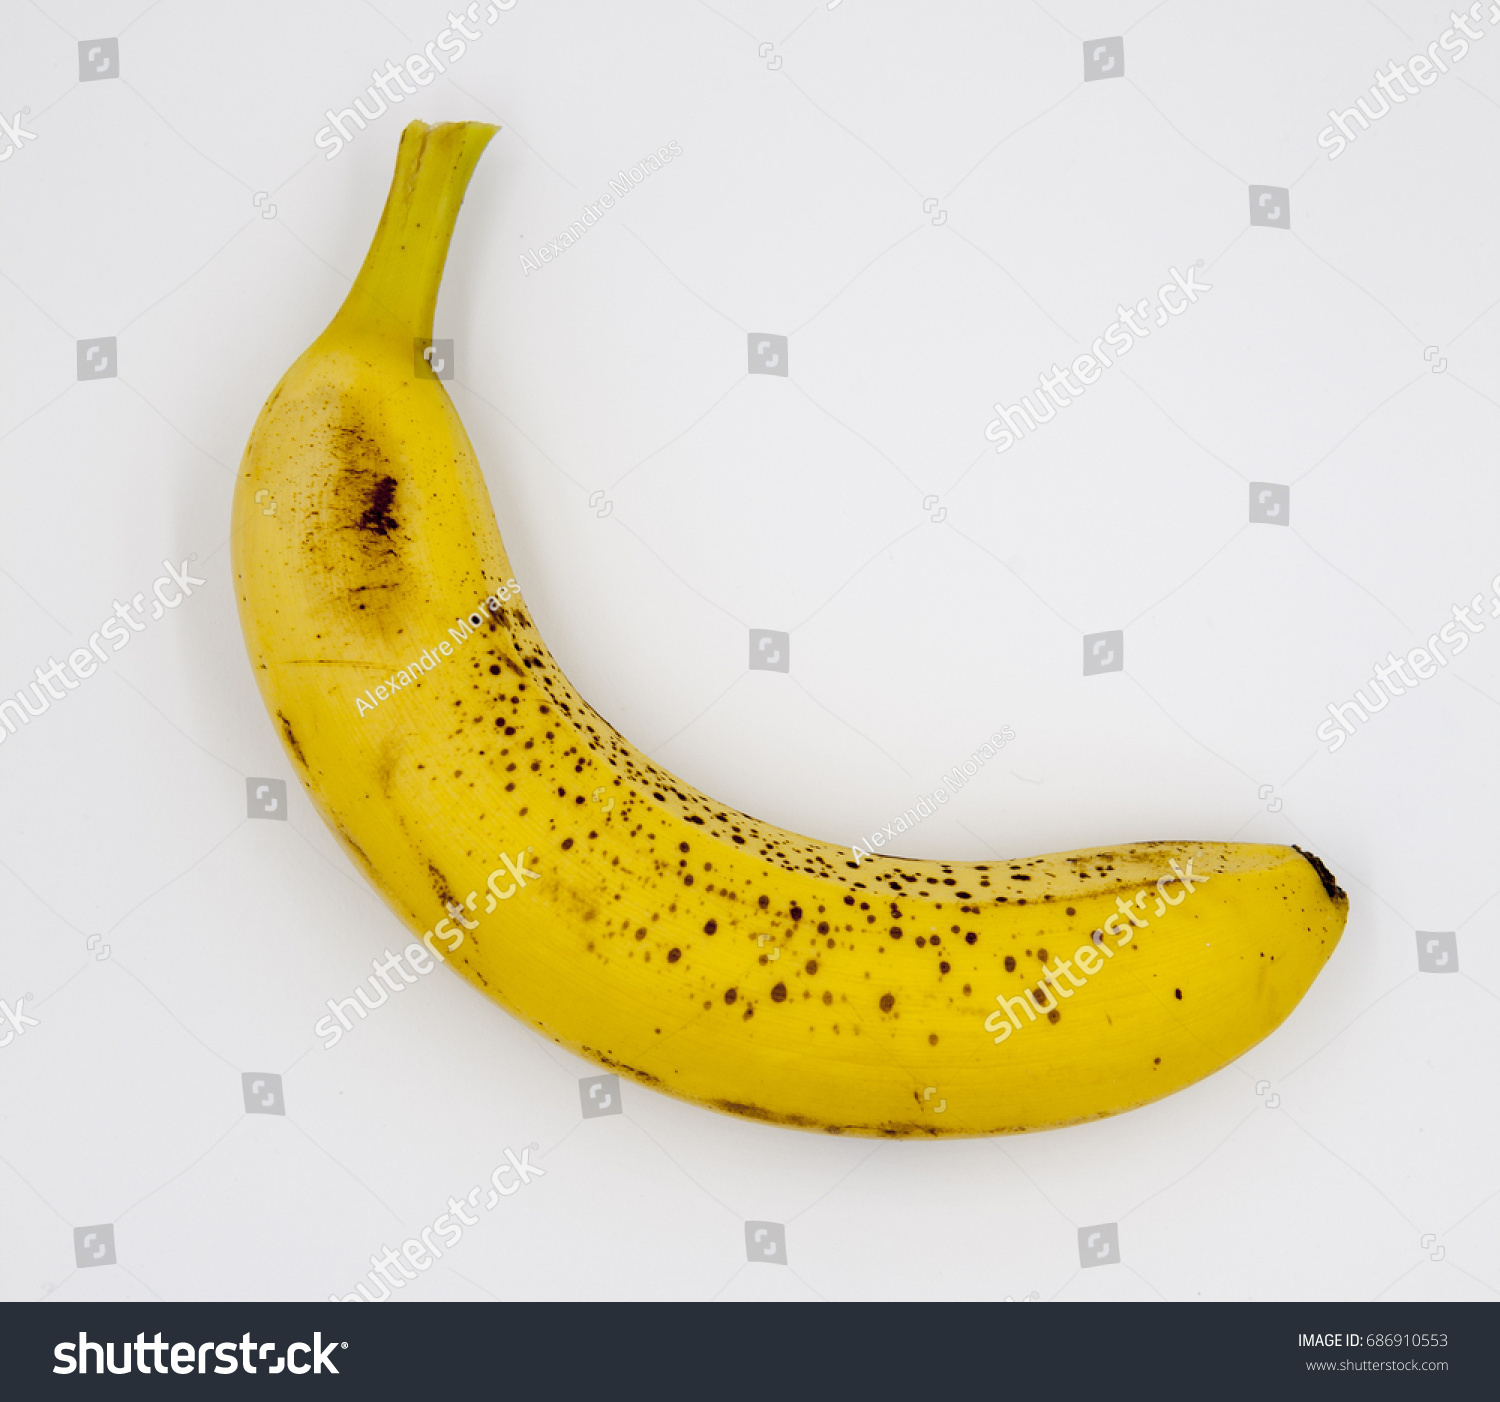banana: (206, 108, 1421, 1220)
